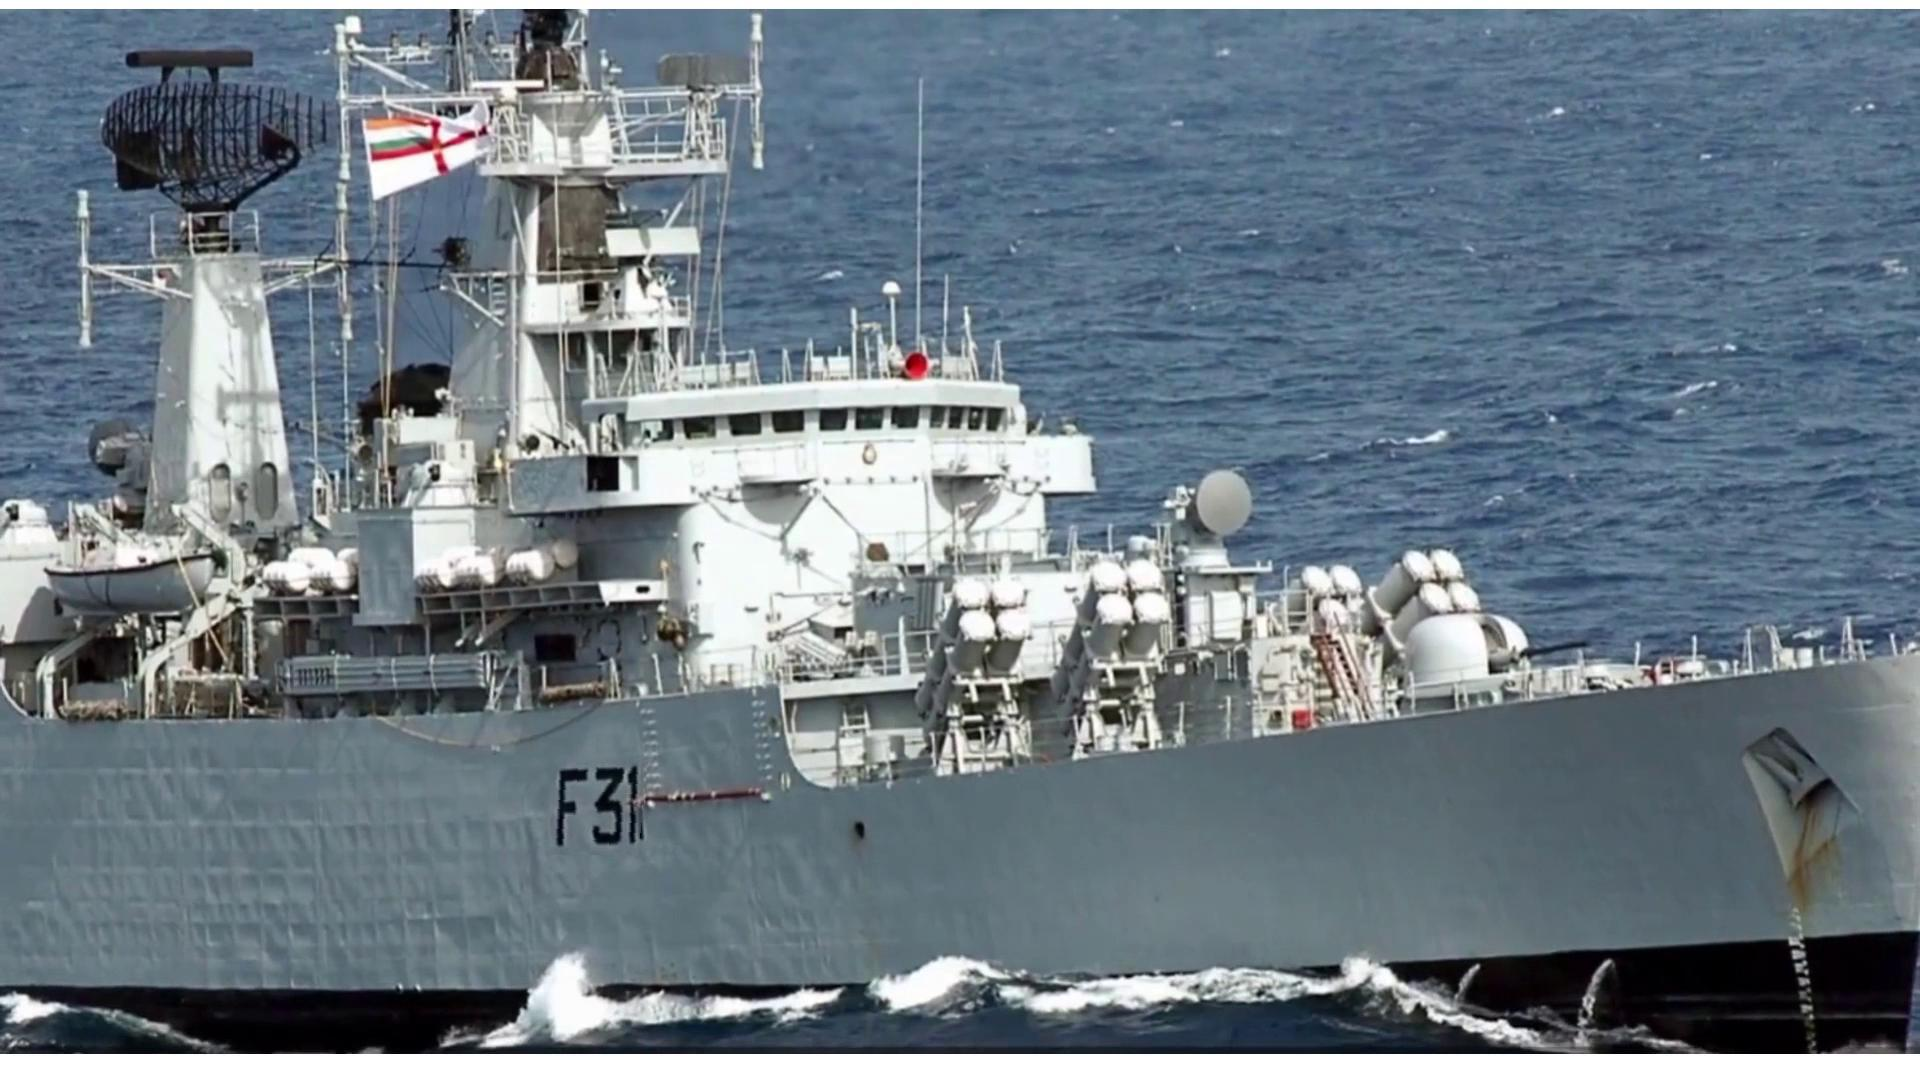OCR: (550, 756, 647, 856)
